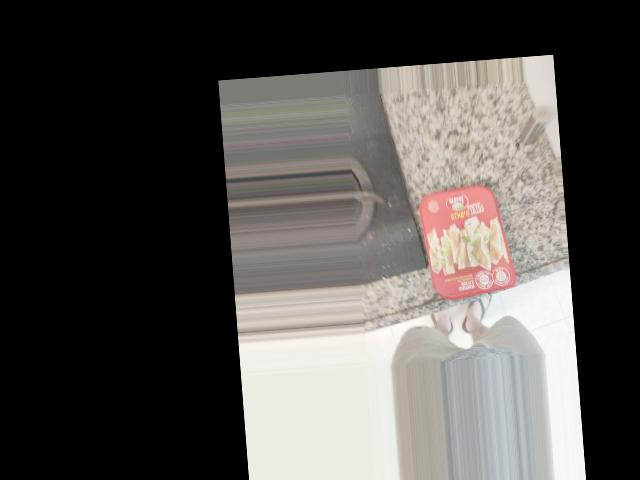cheese: (416, 187, 516, 302)
